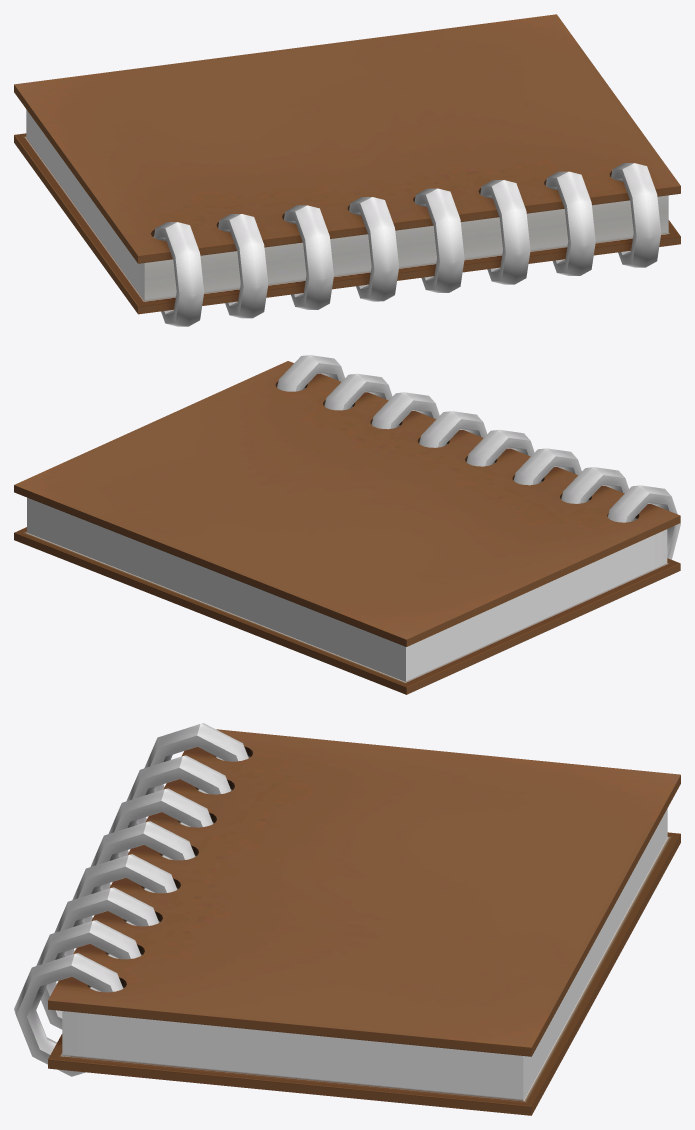
Rendered from note.fbx.
3 renders of one model, top to bottom at view 1: azimuth 30°, elevation 25°; view 2: azimuth 150°, elevation 25°; view 3: azimuth 270°, elevation 25°, orthographic. The views are drawn at different scales.
Visible parts, largest first — view 1: note; view 2: note; view 3: note.
Part boxes in pixels (x1,y1,x2,y2): note: (14,14,680,326); note: (14,355,680,694); note: (14,723,680,1115).
Bounding box in the file's own units: 0.5613 × 0.0999 × 0.4938.
1 material, 1 textured.
